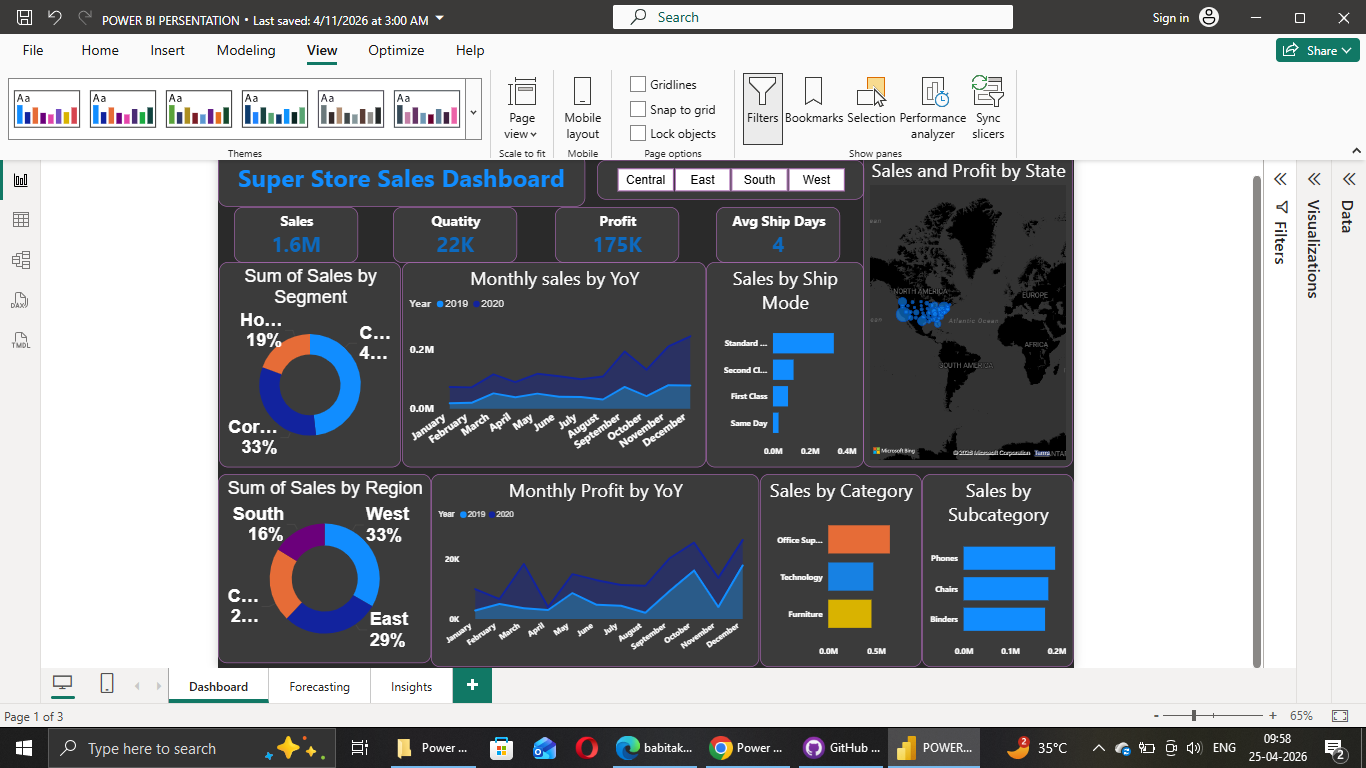

This screenshot's page, from the dashboard's own definition file:
{"tool":"powerbi","page":{"name":"Dashboard","canvas":[1317,790],"ordinal":0},"visuals":[{"type":"barChart","title":" Sales by Category","fields":{"Category":["SuperStore Sales DataSet.Category"],"Y":["Sum(SuperStore Sales DataSet.Sales)"]},"box":[833.5,493,248.8,297],"z":0},{"type":"barChart","title":" Sales by Subcategory","fields":{"Category":["SuperStore Sales DataSet.Sub-Category"],"Y":["Sum(SuperStore Sales DataSet.Sales)"]},"box":[1082.4,493,233.3,297],"z":1000},{"type":"barChart","title":" Sales by Ship Mode","fields":{"Y":["Sum(SuperStore Sales DataSet.Sales)"],"Category":["SuperStore Sales DataSet.Ship Mode"]},"box":[751.1,166.4,242.6,315.7],"z":2000},{"type":"stackedAreaChart","title":"Monthly sales by YoY","fields":{"Y":["Sum(SuperStore Sales DataSet.Sales)"],"Category":["SuperStore Sales DataSet.Order Date.Variation.Date Hierarchy.Month","SuperStore Sales DataSet.Order Date.Variation.Date Hierarchy.Day"],"Series":["SuperStore Sales DataSet.Order Date.Variation.Date Hierarchy.Year"]},"box":[283,166.4,468.1,315.7],"z":3000},{"type":"map","title":"Sales and Profit by State","fields":{"Category":["SuperStore Sales DataSet.State"],"Size":["Sum(SuperStore Sales DataSet.Sales)"]},"box":[992.2,0,323.5,482.1],"z":4000},{"type":"donutChart","fields":{"Category":["SuperStore Sales DataSet.Segment"],"Y":["Sum(SuperStore Sales DataSet.Sales)"]},"box":[2,166,280,316],"z":5000},{"type":"stackedAreaChart","title":"Monthly Profit by YoY","fields":{"Category":["SuperStore Sales DataSet.Order Date.Variation.Date Hierarchy.Month","SuperStore Sales DataSet.Order Date.Variation.Date Hierarchy.Day"],"Series":["SuperStore Sales DataSet.Order Date.Variation.Date Hierarchy.Year"],"Y":["Sum(SuperStore Sales DataSet.Profit)"]},"box":[328.1,493,505.4,297],"z":6000},{"type":"donutChart","fields":{"Y":["Sum(SuperStore Sales DataSet.Sales)"],"Category":["SuperStore Sales DataSet.Region"]},"box":[0,493,328.1,290.8],"z":7000},{"type":"slicer","fields":{"Values":["SuperStore Sales DataSet.Region"]},"box":[583.2,9.3,410.6,60.6],"z":8000},{"type":"textbox","box":[0,0,564.5,80.9],"z":9000},{"type":"card","title":"Sales","fields":{"Values":["Sum(SuperStore Sales DataSet.Sales)"]},"box":[24.9,80.9,191.3,85.5],"z":10000},{"type":"card","title":"Quatity","fields":{"Values":["Sum(SuperStore Sales DataSet.Quantity)"]},"box":[269,80.9,191.3,85.5],"z":11000},{"type":"card","title":"Profit","fields":{"Values":["Sum(SuperStore Sales DataSet.Profit)"]},"box":[517.9,80.9,191.3,85.5],"z":12000},{"type":"card","title":"Avg Ship Days","fields":{"Values":["Avg(SuperStore Sales DataSet.AvgDelivery)"]},"box":[766.7,80.9,191.3,85.5],"z":13000}]}

Visuals, with their boxes on the page's 1317x790 design canvas (x1, y1, x2, y2). These are canvas units, not pixel positions in the 1366x768 screenshot, which may show the page scaled, cropped or inside an application window:
" Sales by Category" barChart: l=834, t=493, r=1082, b=790
" Sales by Subcategory" barChart: l=1082, t=493, r=1316, b=790
" Sales by Ship Mode" barChart: l=751, t=166, r=994, b=482
"Monthly sales by YoY" stackedAreaChart: l=283, t=166, r=751, b=482
"Sales and Profit by State" map: l=992, t=0, r=1316, b=482
donutChart - SuperStore Sales DataSet.Segment x Sum(SuperStore Sales DataSet.Sales): l=2, t=166, r=282, b=482
"Monthly Profit by YoY" stackedAreaChart: l=328, t=493, r=834, b=790
donutChart - Sum(SuperStore Sales DataSet.Sales) x SuperStore Sales DataSet.Region: l=0, t=493, r=328, b=784
slicer - SuperStore Sales DataSet.Region: l=583, t=9, r=994, b=70
textbox: l=0, t=0, r=564, b=81
"Sales" card: l=25, t=81, r=216, b=166
"Quatity" card: l=269, t=81, r=460, b=166
"Profit" card: l=518, t=81, r=709, b=166
"Avg Ship Days" card: l=767, t=81, r=958, b=166
